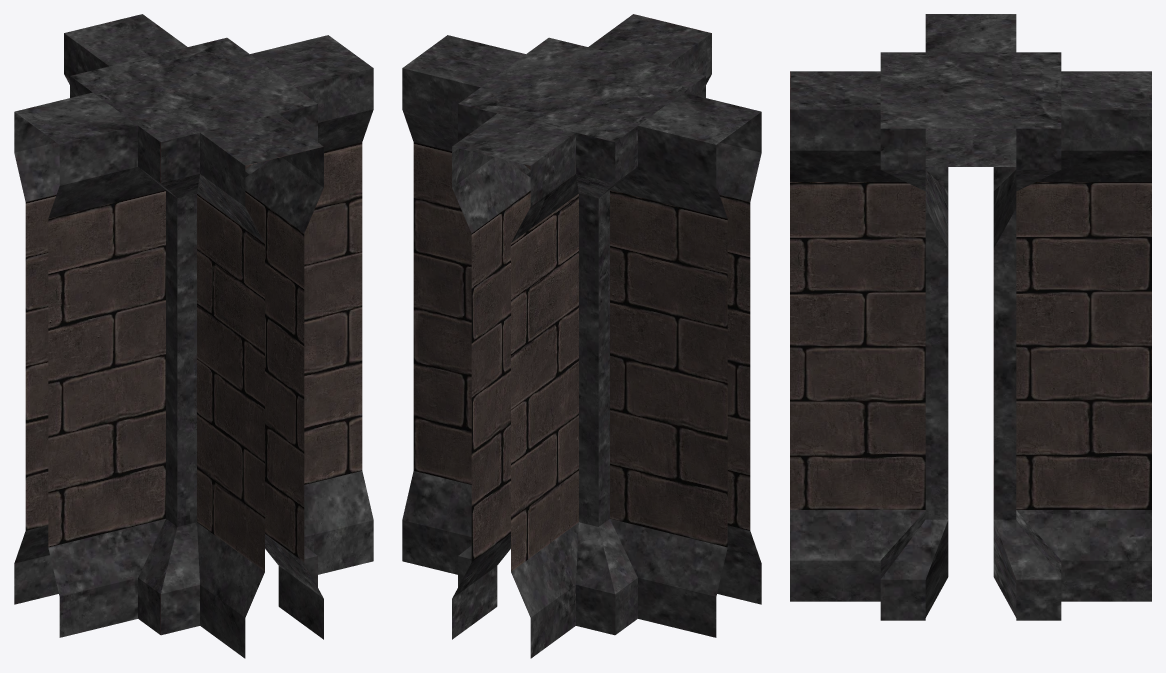
The picture shows the model from 3 angles, left to right: view 1: azimuth 30°, elevation 25°; view 2: azimuth 150°, elevation 25°; view 3: azimuth 270°, elevation 25°; orthographic projection.
Visible parts, largest first — view 1: Bk_X; view 2: Bk_X; view 3: Bk_X.
Boxes of the visible parts, x1,y1,x2,y2 form: Bk_X: (14,14,373,658); Bk_X: (402,14,761,658); Bk_X: (790,14,1151,620).
Size of the model in its own units: 2 by 3 by 2.
1 material, 1 textured.
